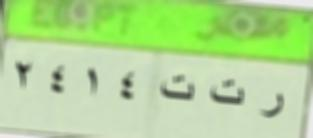1: (82, 64, 105, 101)
2: (8, 55, 38, 98)
4: (40, 62, 73, 100), (112, 66, 140, 103)
raa: (257, 85, 287, 127)
taa: (206, 77, 250, 112), (157, 70, 199, 105)
